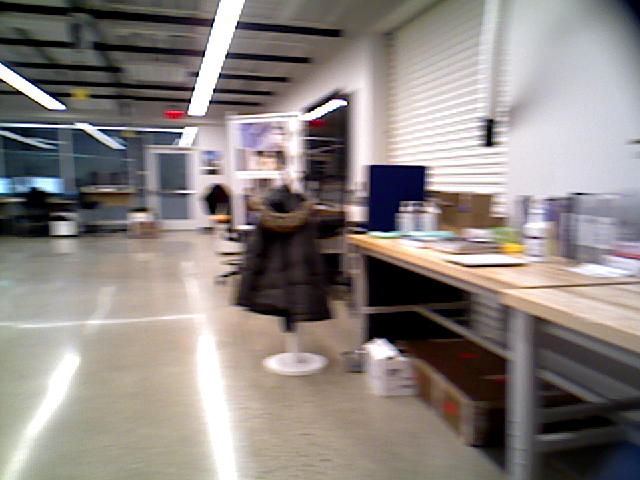painting3: (196, 147, 226, 178)
